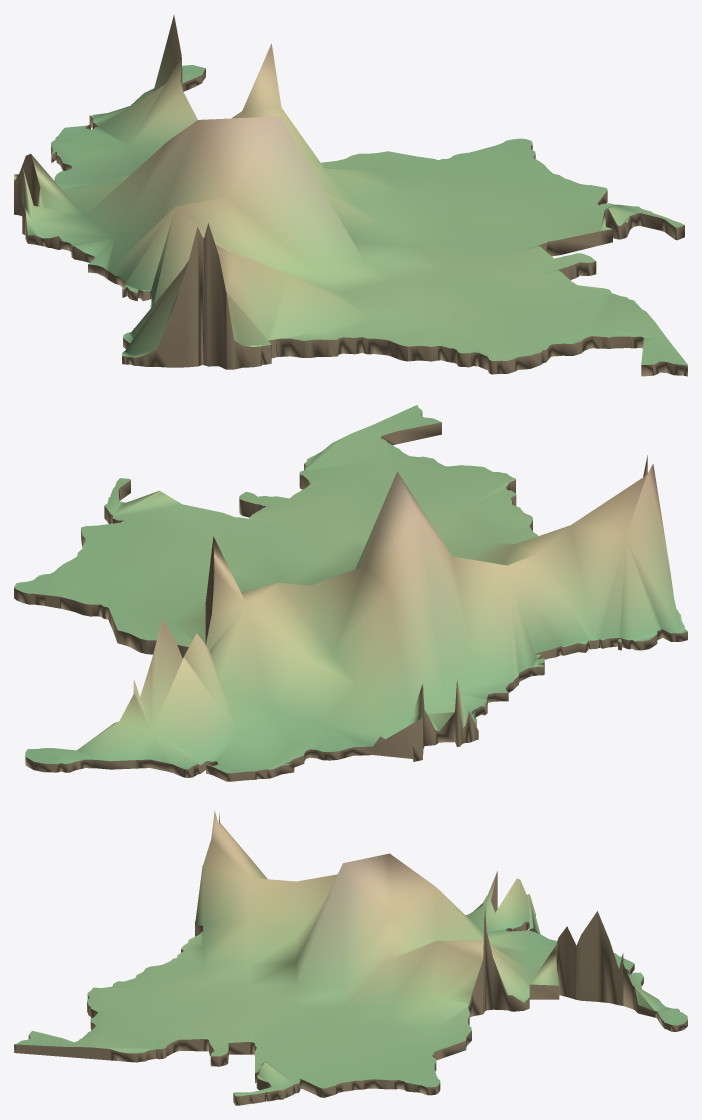
File: COL.glb
The picture shows the model from 3 angles, top to bottom: view 1: azimuth 30°, elevation 25°; view 2: azimuth 150°, elevation 25°; view 3: azimuth 270°, elevation 25°; orthographic projection. The views are drawn at different scales.
Parts seen in each view (by area): view 1: COL; view 2: COL; view 3: COL.
Part boxes in pixels (x1,y1,x2,y2): COL: (14,15,687,376); COL: (14,405,687,781); COL: (14,811,687,1105).
Size of the model in its own units: 1.29 by 0.338 by 1.77.
